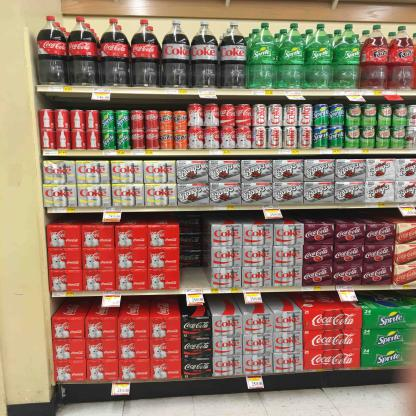Void: (180, 222, 209, 288)
